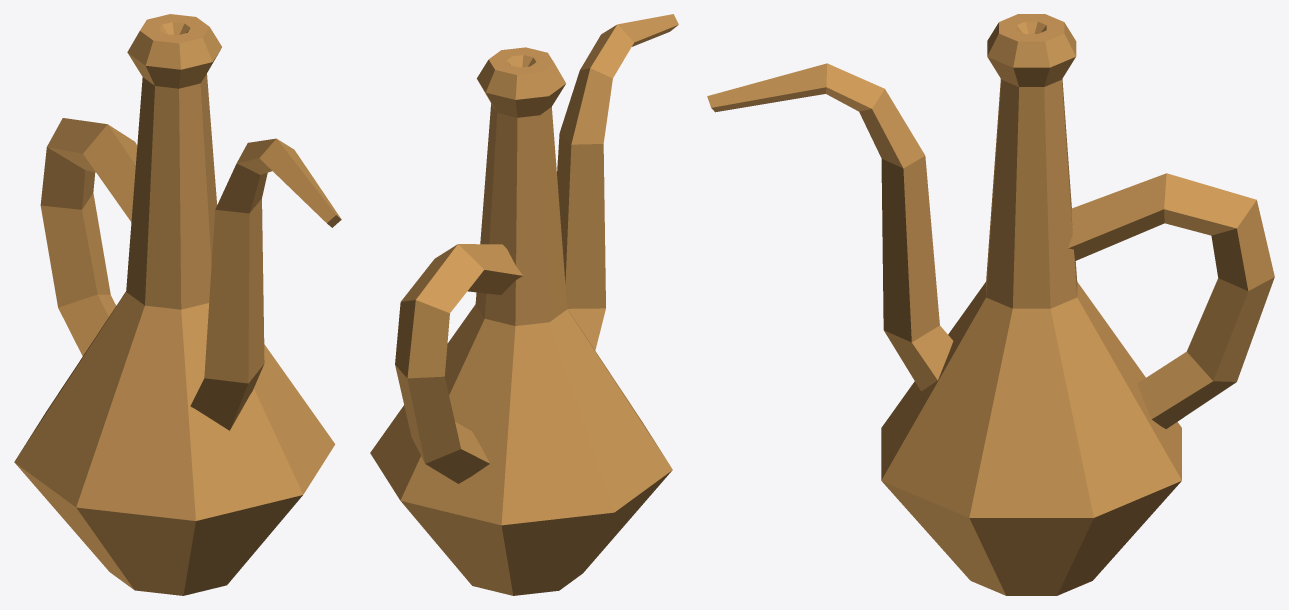
The model's file is SM_Prop_Gold_Teapot_02.glb.
The picture shows the model from 3 angles, left to right: view 1: azimuth 30°, elevation 25°; view 2: azimuth 150°, elevation 25°; view 3: azimuth 270°, elevation 25°; orthographic projection. The views are drawn at different scales.
Parts seen in each view (by area): view 1: SM_Prop_Gold_Teapot_02; view 2: SM_Prop_Gold_Teapot_02; view 3: SM_Prop_Gold_Teapot_02.
Part boxes in pixels (<box>): SM_Prop_Gold_Teapot_02: <box>14,14,341,595</box>; SM_Prop_Gold_Teapot_02: <box>370,14,678,595</box>; SM_Prop_Gold_Teapot_02: <box>707,14,1274,595</box>.
Size of the model in its own units: 0.2783 by 0.5535 by 0.5252.
1 material, 1 textured.
